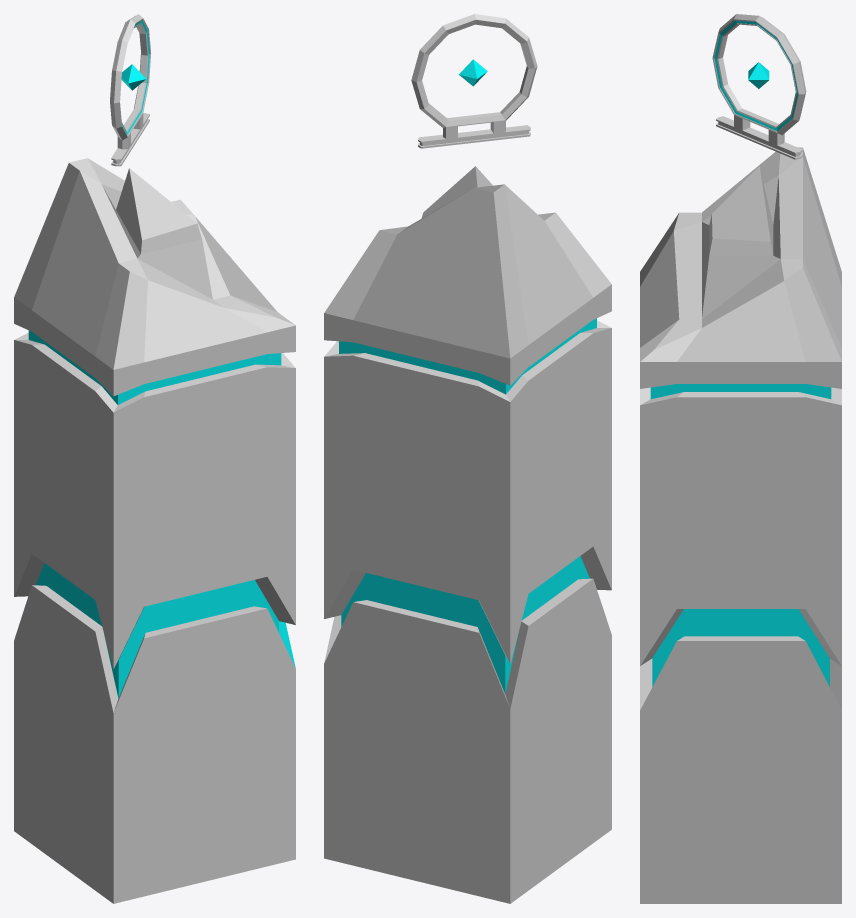
Rendered from Tower_1.fbx.
The picture shows the model from 3 angles, left to right: view 1: azimuth 30°, elevation 25°; view 2: azimuth 150°, elevation 25°; view 3: azimuth 270°, elevation 25°; orthographic projection. The views are drawn at different scales.
Parts seen in each view (by area): view 1: Tower_1; view 2: Tower_1; view 3: Tower_1.
Boxes of the visible parts, x1,y1,x2,y2 form: Tower_1: (14, 14, 295, 903); Tower_1: (324, 14, 611, 903); Tower_1: (640, 14, 841, 903).
Size of the model in its own units: 7.7 by 33.23 by 7.27.
